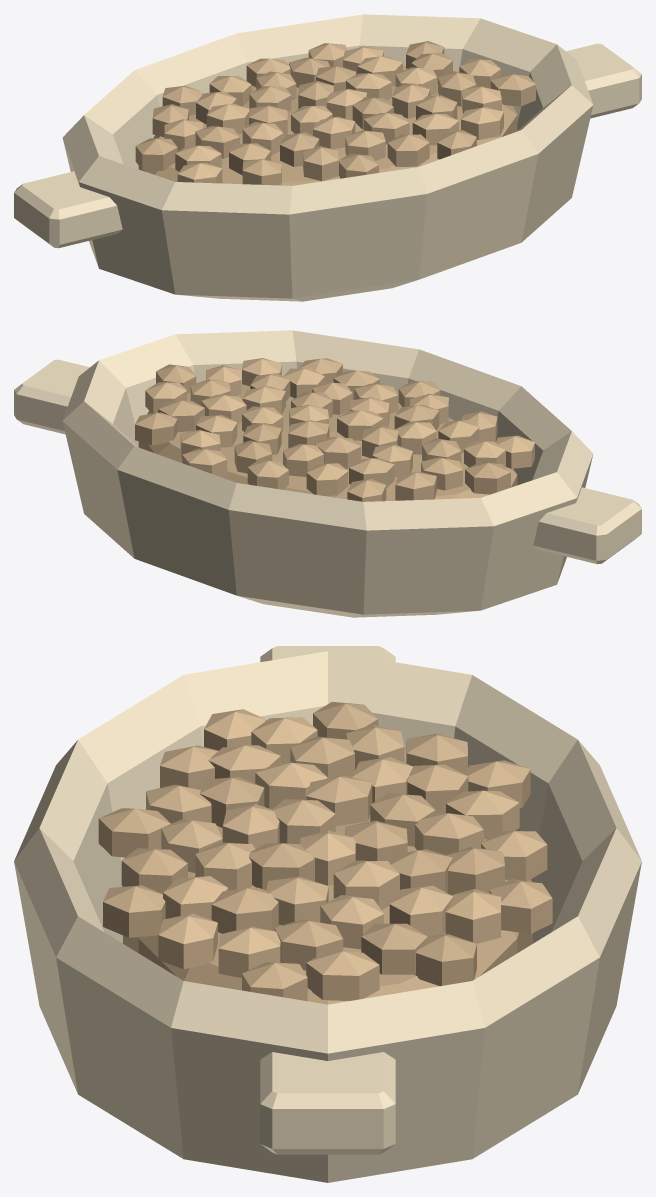
Rendered from crafted-portions-3.glb.
3 renders of one model, top to bottom at view 1: azimuth 30°, elevation 25°; view 2: azimuth 150°, elevation 25°; view 3: azimuth 270°, elevation 25°, orthographic. The views are drawn at different scales.
Visible parts, largest first — view 1: serving-dish, dish-handle, dish-handle-1, ration-volume, ration-granule-32, ration-granule-38, ration-granule-37, ration-granule-42, ration-granule-27, ration-granule-6, ration-granule-19, ration-granule-24 (+38 smaller); view 2: serving-dish, dish-handle, ration-volume, dish-handle-1, ration-granule-38, ration-granule-28, ration-granule-39, ration-granule-33, ration-granule-36, ration-granule-7, ration-granule-15, ration-granule-25 (+38 smaller); view 3: serving-dish, dish-handle-1, ration-volume, ration-granule-34, ration-granule-45, ration-granule-37, ration-granule-39, ration-granule-40, ration-granule-44, ration-granule-31, ration-granule-26, ration-granule-16 (+38 smaller).
Boxes of the visible parts, x1=… form: serving-dish: x1=62, y1=14, x2=593, y2=301; dish-handle: x1=14, y1=171, x2=122, y2=248; dish-handle-1: x1=566, y1=43, x2=641, y2=118; ration-volume: x1=138, y1=66, x2=517, y2=185; ration-granule-32: x1=387, y1=134, x2=429, y2=166; ration-granule-38: x1=135, y1=138, x2=177, y2=170; ration-granule-37: x1=461, y1=107, x2=503, y2=139; ration-granule-42: x1=490, y1=74, x2=535, y2=106; ration-granule-27: x1=303, y1=146, x2=338, y2=181; ration-granule-6: x1=313, y1=116, x2=355, y2=149; ration-granule-19: x1=345, y1=130, x2=385, y2=160; ration-granule-24: x1=412, y1=114, x2=458, y2=145; serving-dish: x1=62, y1=330, x2=593, y2=617; dish-handle: x1=533, y1=487, x2=641, y2=564; ration-volume: x1=138, y1=383, x2=517, y2=500; dish-handle-1: x1=14, y1=359, x2=89, y2=434; ration-granule-38: x1=465, y1=462, x2=510, y2=494; ration-granule-28: x1=306, y1=463, x2=348, y2=495; ration-granule-39: x1=135, y1=412, x2=177, y2=445; ration-granule-33: x1=395, y1=471, x2=436, y2=500; ration-granule-36: x1=247, y1=460, x2=288, y2=489; ration-granule-7: x1=315, y1=437, x2=361, y2=468; ration-granule-15: x1=283, y1=444, x2=323, y2=476; ration-granule-25: x1=421, y1=457, x2=462, y2=490; serving-dish: x1=14, y1=651, x2=641, y2=1182; dish-handle-1: x1=260, y1=1052, x2=395, y2=1154; ration-volume: x1=123, y1=752, x2=532, y2=1004; ration-granule-34: x1=306, y1=951, x2=379, y2=1000; ration-granule-45: x1=103, y1=885, x2=165, y2=937; ration-granule-37: x1=158, y1=913, x2=217, y2=969; ration-granule-39: x1=414, y1=934, x2=476, y2=986; ration-granule-40: x1=98, y1=808, x2=170, y2=857; ration-granule-44: x1=489, y1=879, x2=552, y2=933; ration-granule-31: x1=445, y1=889, x2=501, y2=943; ration-granule-26: x1=361, y1=923, x2=427, y2=974; ration-granule-16: x1=211, y1=887, x2=279, y2=933.
Bounding box in the file's own units: 0.88 × 0.2083 × 0.5106.
